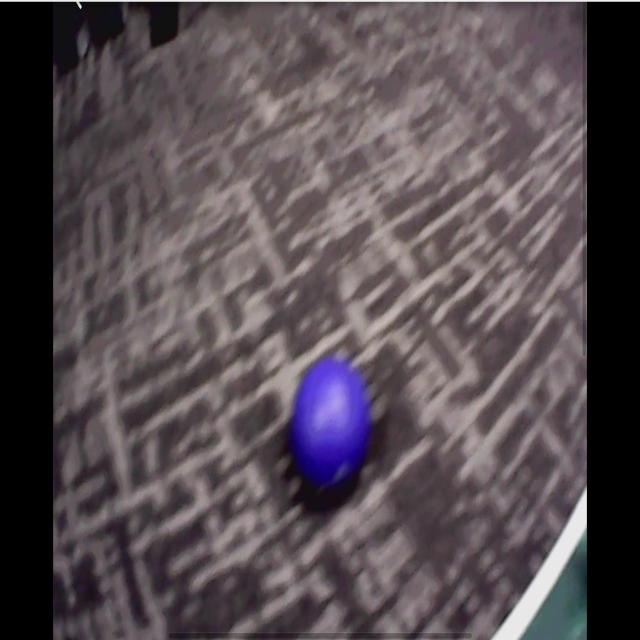ball: (295, 364, 368, 480)
